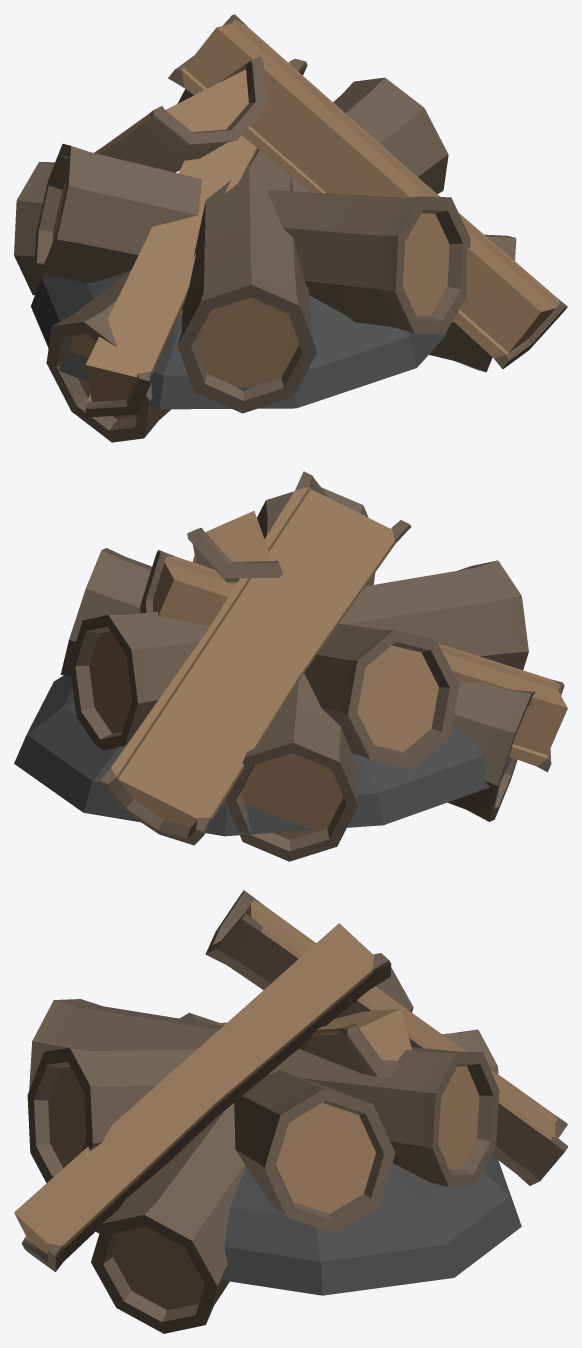
Rendered from Geo_CampfireFull.fbx.
The picture shows the model from 3 angles, top to bottom: view 1: azimuth 30°, elevation 25°; view 2: azimuth 150°, elevation 25°; view 3: azimuth 270°, elevation 25°; orthographic projection. The views are drawn at different scales.
Visible parts, largest first — view 1: Campfire_Lit; view 2: Campfire_Lit; view 3: Campfire_Lit.
Part boxes in pixels (left/top/right/bottom): Campfire_Lit: left=14, top=14, right=567, bottom=442; Campfire_Lit: left=14, top=471, right=567, bottom=861; Campfire_Lit: left=14, top=890, right=567, bottom=1333.
Bounding box in the file's own units: 48.04 × 33.68 × 51.03.
